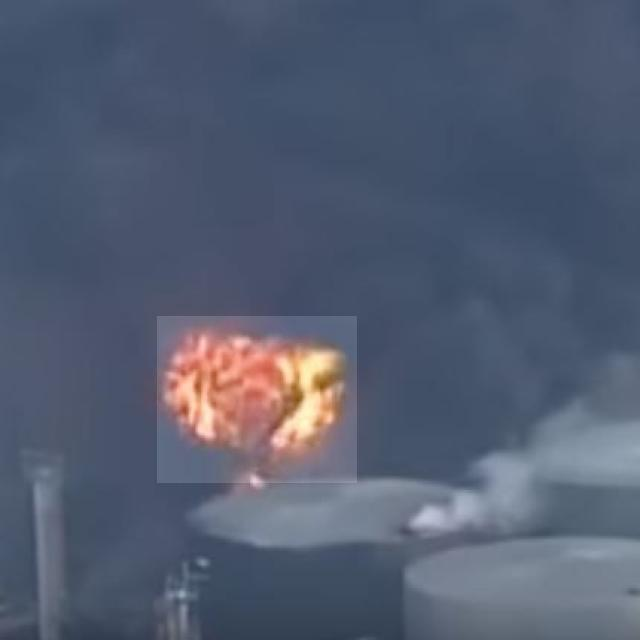Fire: (157, 316, 357, 483)
